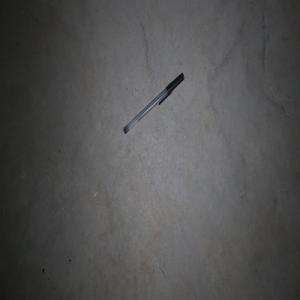Pen: (123, 72, 184, 133)
